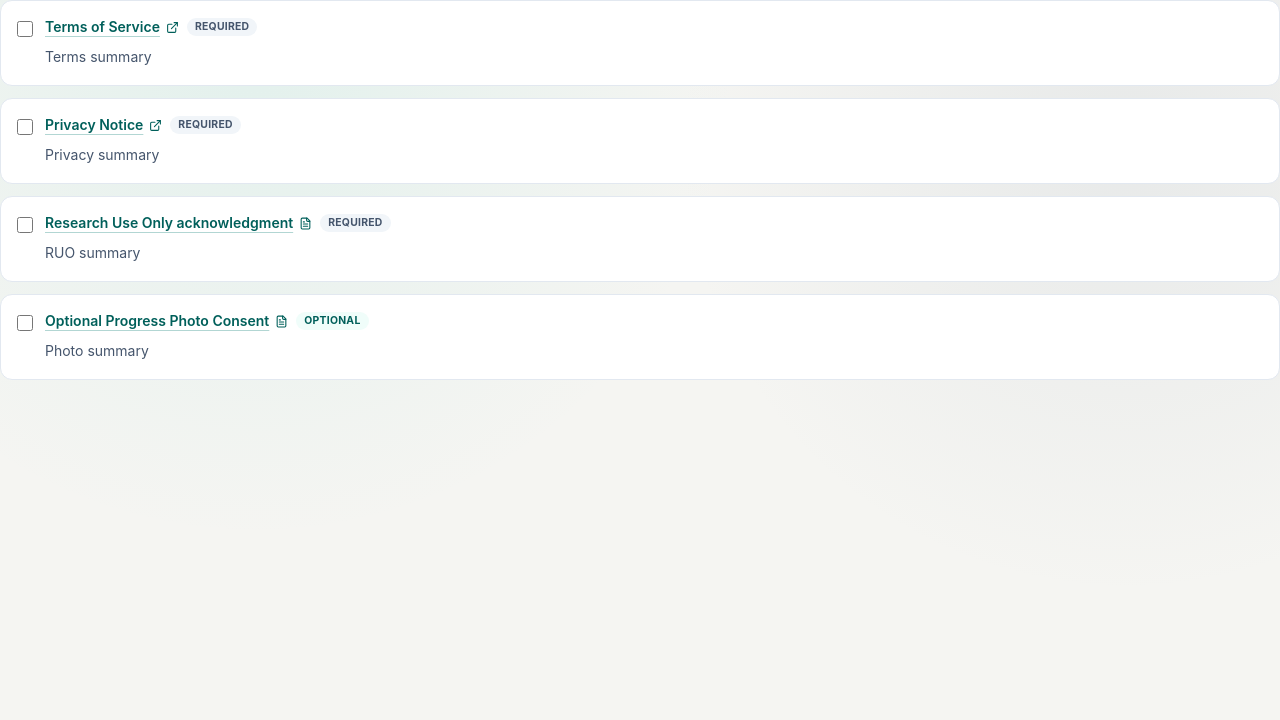
Test: ConsentChecklist › keeps legal document controls independent from checkboxes in en
The width and height of the screenshot is (1280, 720).
Click the button "Research Use Only acknowledgment": (179, 223) [45,213,312,233]
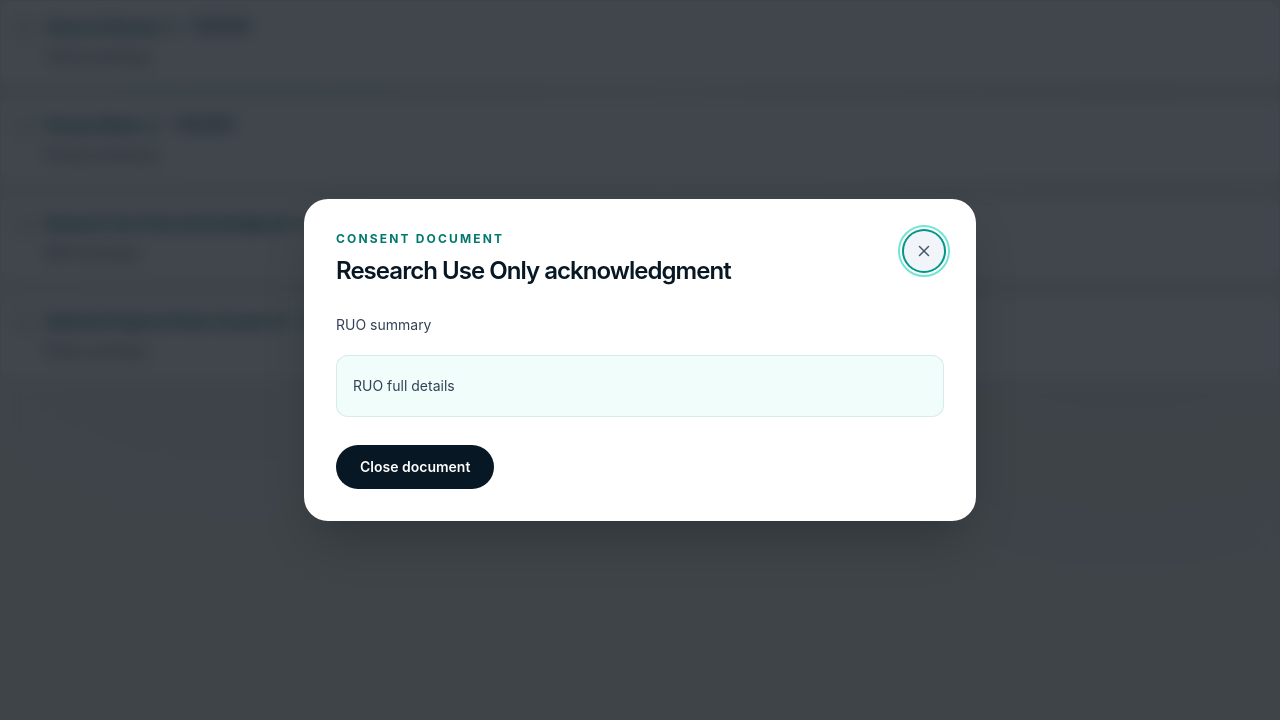
Now the dialog is shown
Now the text "RUO full details" is shown, box [336,355,944,417]
